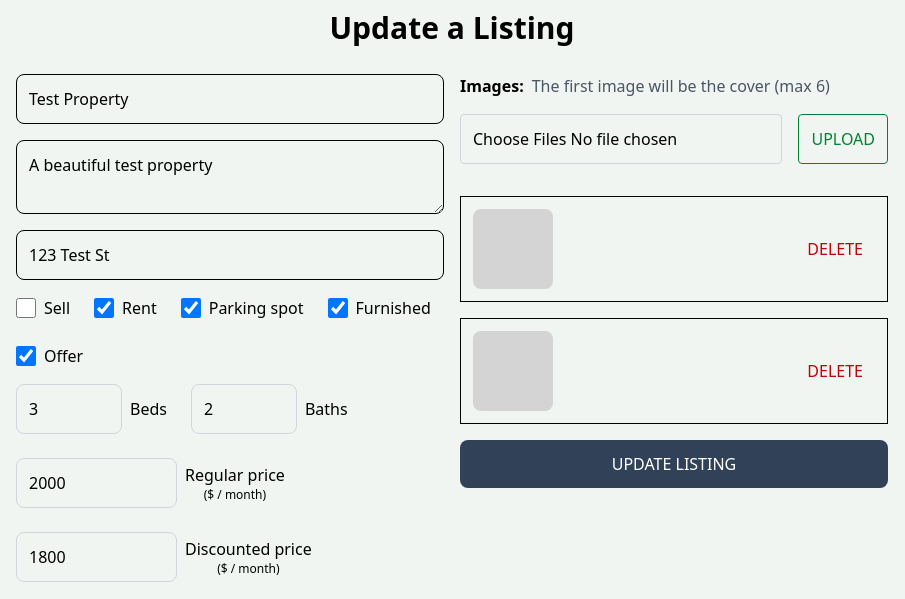
Test: UpdateListing Component › updates property type on sale and rent checkbox toggle
Expected: the 1st field showing "Test Property" is shown, [16,74,444,124]
Expected: the checkbox with test id "rent-checkbox" is checked, [94,296,114,320]
Note: We click the sale to switch
Step 1. Click the checkbox with test id "sale-checkbox" → coordinates (26, 308), box [16,296,36,320]
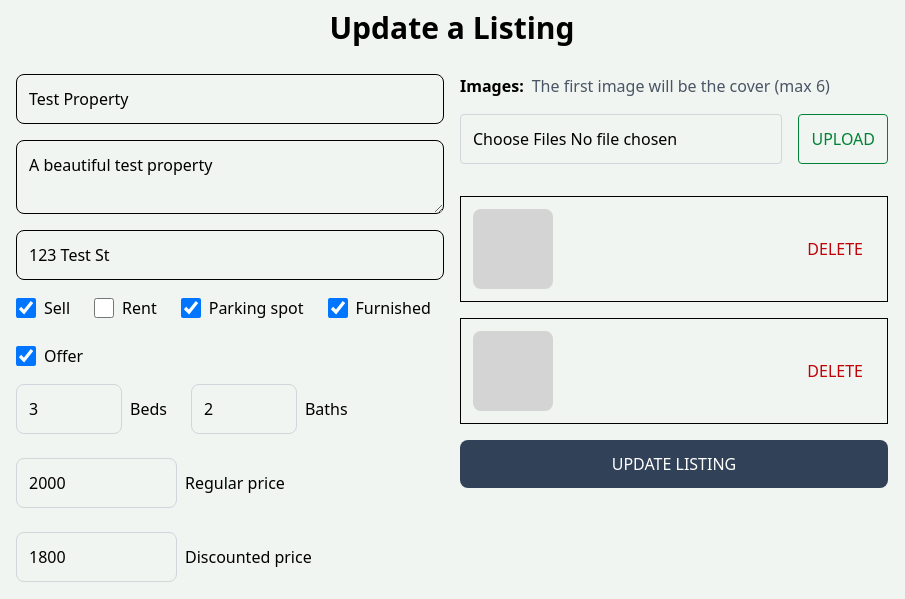
Now the checkbox with test id "sale-checkbox" is checked, box [16,296,36,320]
Now the checkbox with test id "rent-checkbox" is not checked, box [94,296,114,320]
